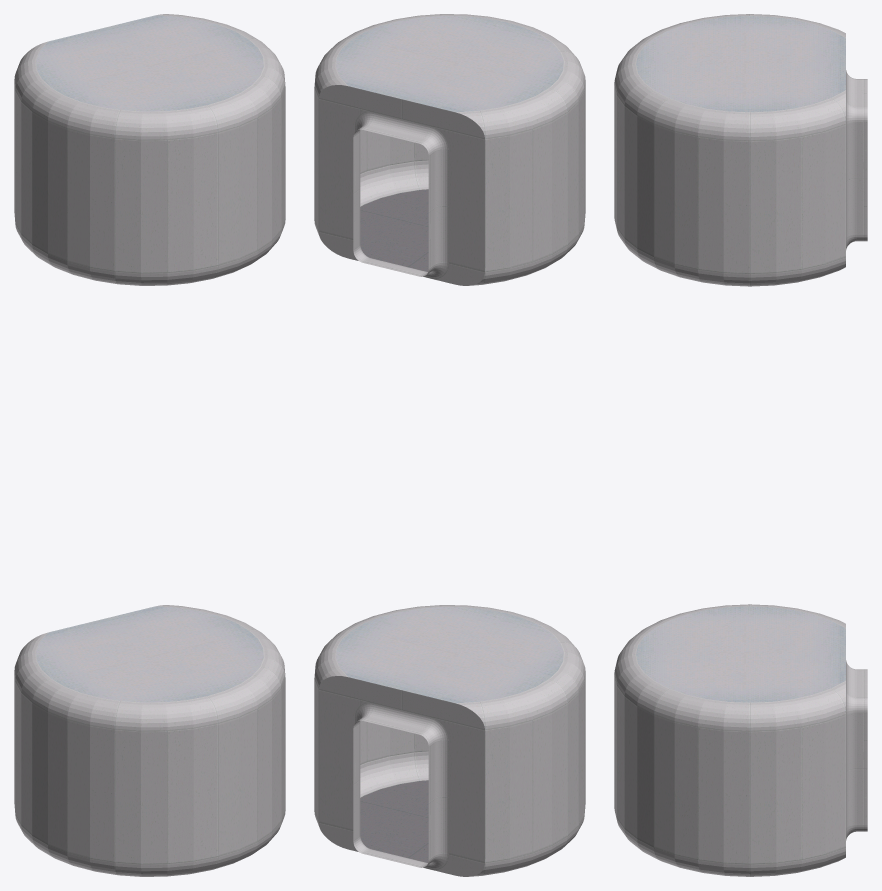
Rendered from thm_spc_corvette_dungeon_r57_elevator57_mesh_r57.fbx.
3 views of the same model, side by side, from view 1: azimuth 30°, elevation 25°; view 2: azimuth 150°, elevation 25°; view 3: azimuth 270°, elevation 25° (orthographic).
Visible parts, largest first — view 1: mesh_node; view 2: mesh_node; view 3: mesh_node.
Part boxes in pixels (bbox=[...]): mesh_node: bbox=[14, 14, 285, 876]; mesh_node: bbox=[314, 14, 585, 876]; mesh_node: bbox=[614, 14, 867, 876].
Size of the model in its own units: 5 by 15.5 by 4.67.
